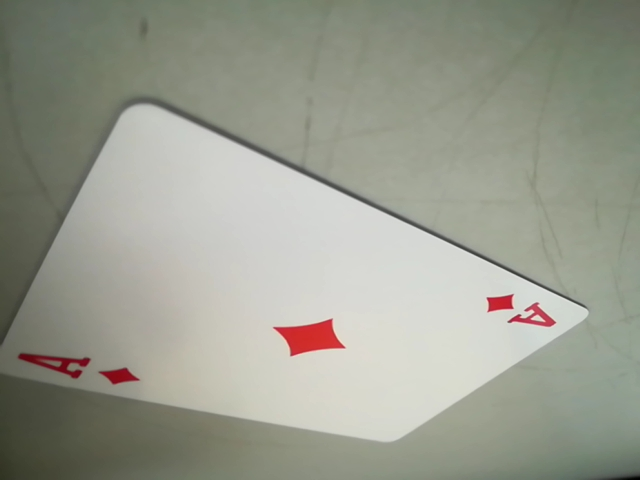fk a: (8, 349, 145, 389), (482, 284, 567, 338)
